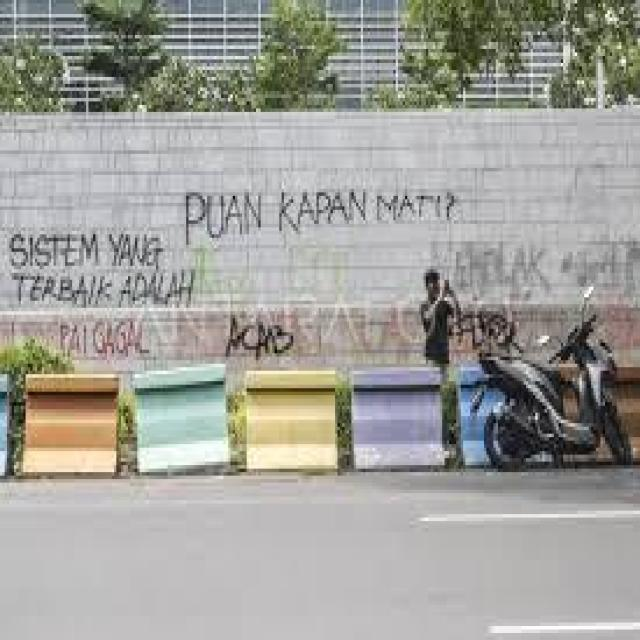nonspitting: (183, 188, 454, 252), (9, 227, 195, 306), (458, 238, 559, 292), (449, 308, 522, 352), (60, 318, 146, 355), (226, 325, 293, 364)
